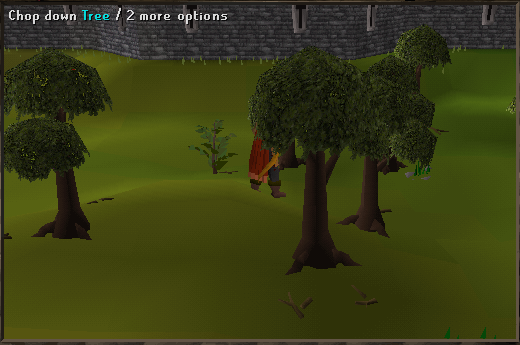Tree: (3, 48, 118, 246), (264, 51, 351, 278), (349, 65, 418, 241)
